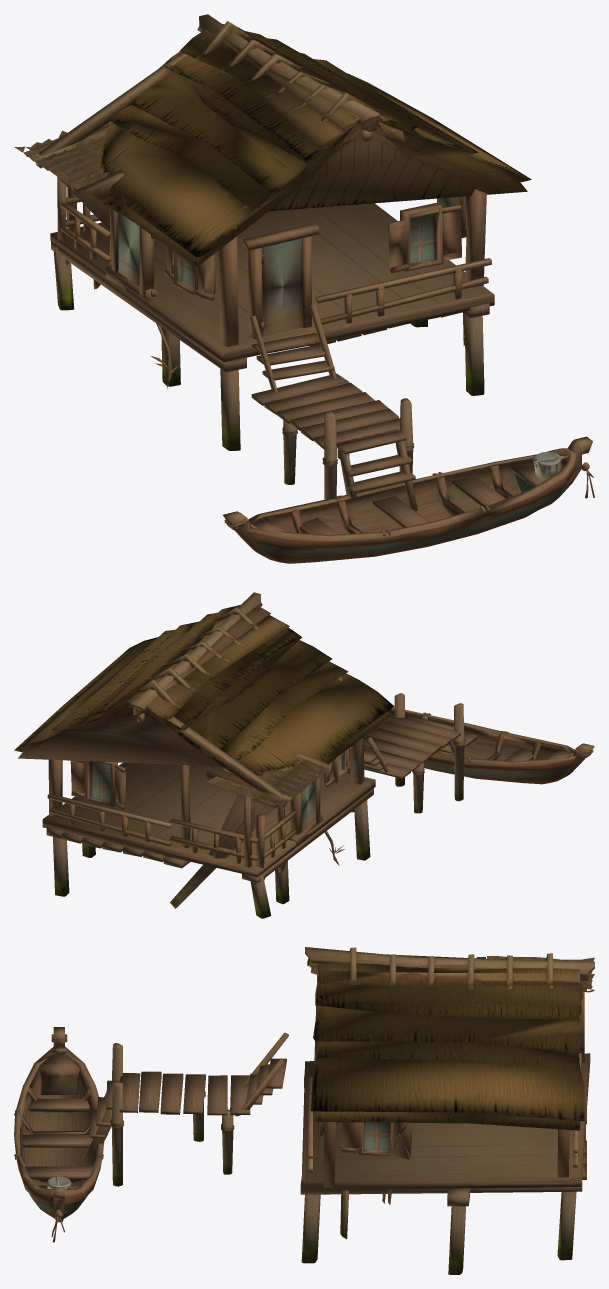
File: selected.glb
3 views of the same model, one above another, from view 1: azimuth 30°, elevation 25°; view 2: azimuth 150°, elevation 25°; view 3: azimuth 270°, elevation 25° (orthographic). The views are drawn at different scales.
Parts seen in each view (by area): view 1: tripo_node_a33ca8ff-9960-434d-be14-0fbc6603115f; view 2: tripo_node_a33ca8ff-9960-434d-be14-0fbc6603115f; view 3: tripo_node_a33ca8ff-9960-434d-be14-0fbc6603115f.
Part boxes in pixels (x1,y1,x2,y2): tripo_node_a33ca8ff-9960-434d-be14-0fbc6603115f: (14,14,594,563); tripo_node_a33ca8ff-9960-434d-be14-0fbc6603115f: (14,592,594,918); tripo_node_a33ca8ff-9960-434d-be14-0fbc6603115f: (14,947,594,1274).
Size of the model in its own units: 0.7832 by 0.5098 by 0.998.
Materials: 1 (1 with a texture image).
